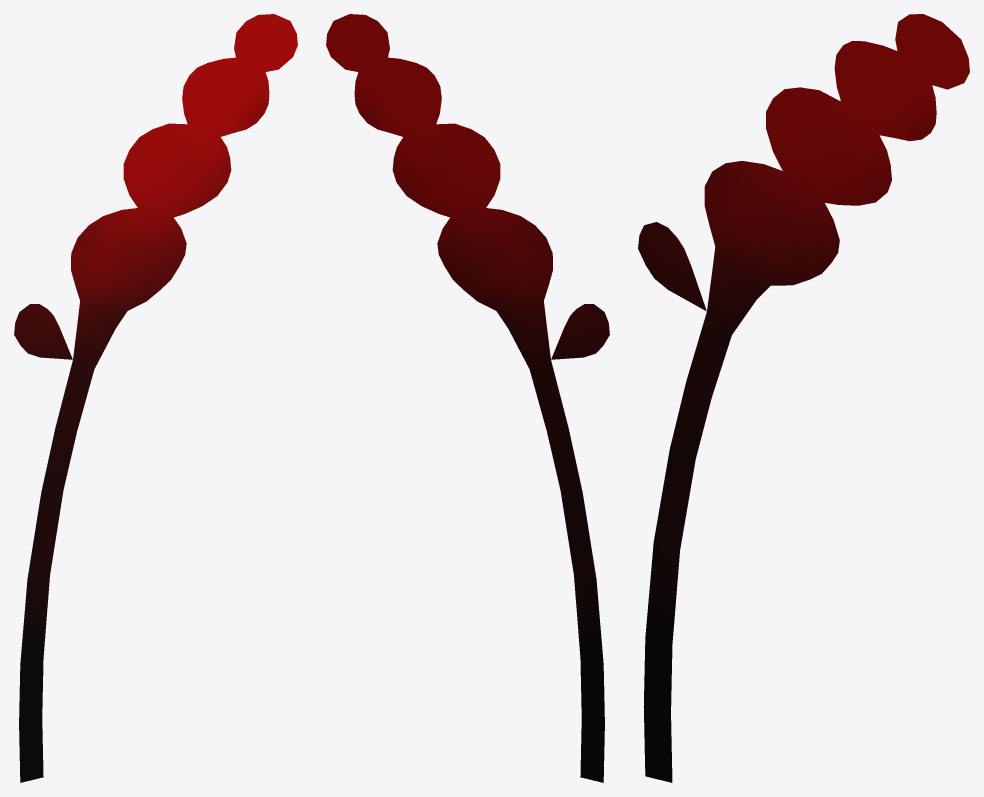
File: SM_Lavender_07_LOD0.fbx
The picture shows the model from 3 angles, left to right: view 1: azimuth 30°, elevation 25°; view 2: azimuth 150°, elevation 25°; view 3: azimuth 330°, elevation 25°; orthographic projection. The views are drawn at different scales.
Parts seen in each view (by area): view 1: SM_Lavender_07_LOD0; view 2: SM_Lavender_07_LOD0; view 3: SM_Lavender_07_LOD0.
Boxes of the visible parts, bbox=[...] form: SM_Lavender_07_LOD0: bbox=[14, 14, 297, 782]; SM_Lavender_07_LOD0: bbox=[326, 14, 609, 782]; SM_Lavender_07_LOD0: bbox=[638, 14, 969, 782].
Bounding box in the file's own units: 106 × 4.01e-05 × 252.
